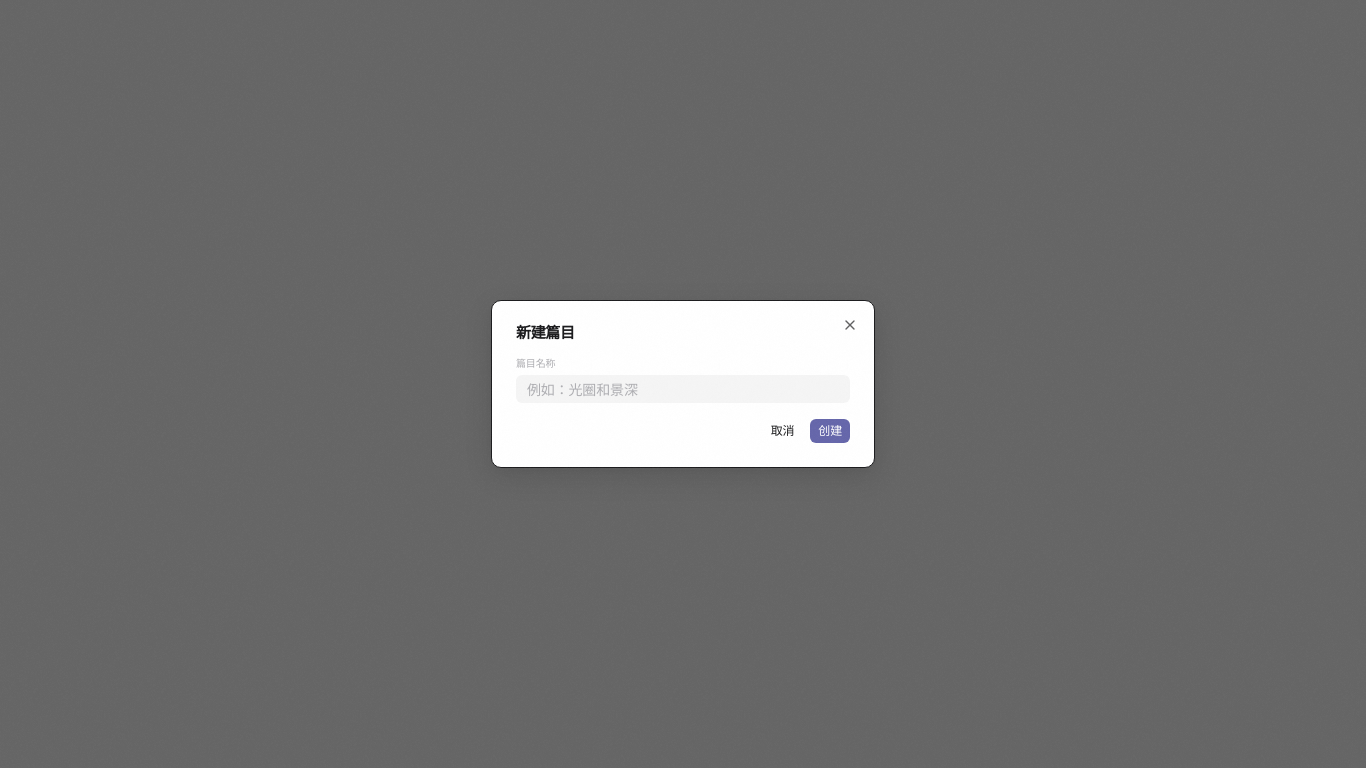
it: CreateLearningChapterDialog › requires a title before creating a chapter
This screenshot has width=1366, height=768.
Click the button "创建". click: (830, 431)
box: [810,419,850,443]
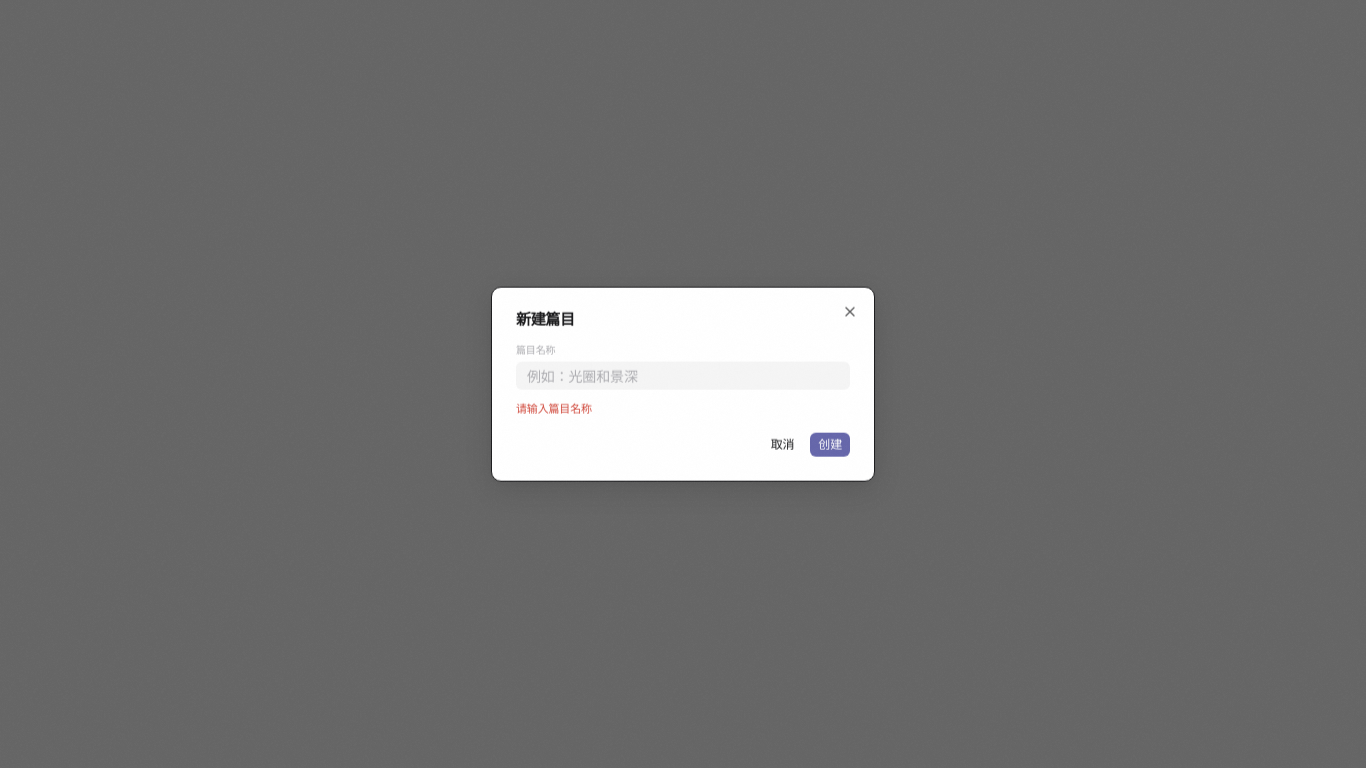
Expected: the text "请输入篇目名称" is shown, [516,402,592,416]
